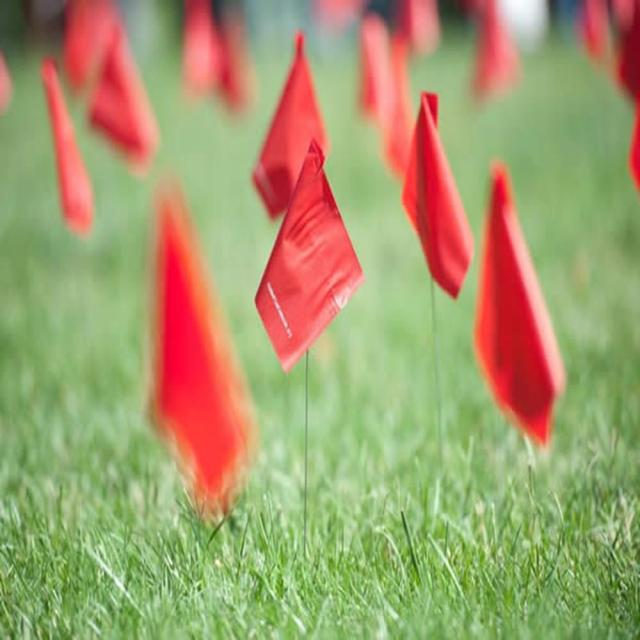other: (45, 12, 586, 430)
